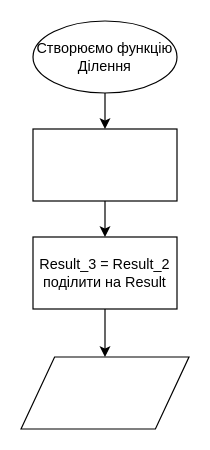
Image size: 210x450. Some labels were removed from this diagram. Here are the shapes that lost their labels. From the top down, the centre of each, then its label:
At point (104, 164): "Вводимо змінну типу Double result_3".
At point (104, 392): "Вивести result_3".
